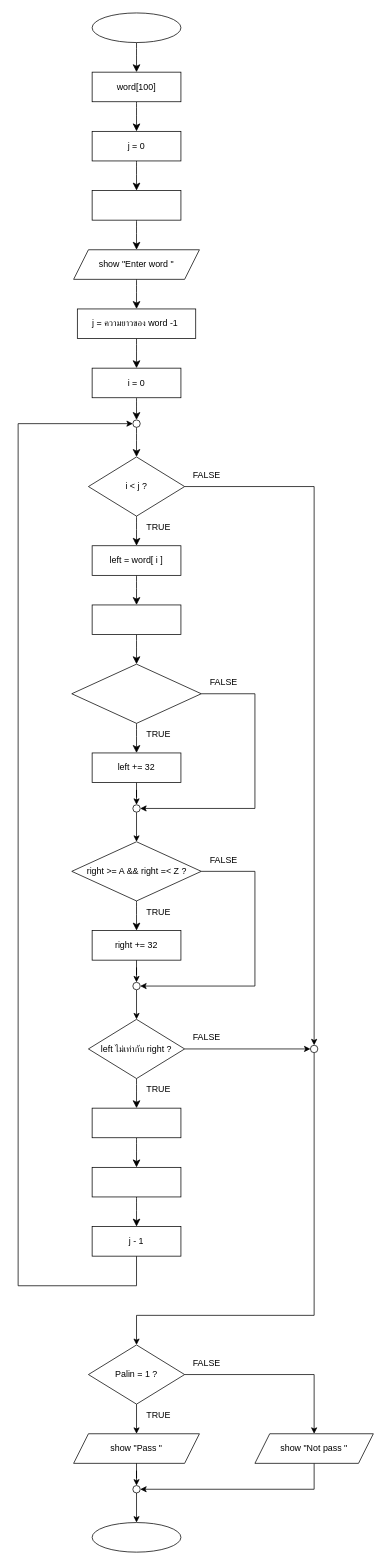
Image size: 386x1565. Some labels were removed from this diagram. The shapes that lost their labels are listed below. From the top down, each one's box as (x1, y1, x2, y2) in pixels, then its label:
(91, 12, 181, 43): Start
(91, 190, 181, 220): Palin = 1
(91, 604, 181, 635): right = word[ j ]
(71, 663, 201, 723): left >= A && left =< Z ?
(91, 1107, 181, 1138): Palin = 0
(91, 1167, 181, 1197): i + 1
(91, 1522, 181, 1552): END
